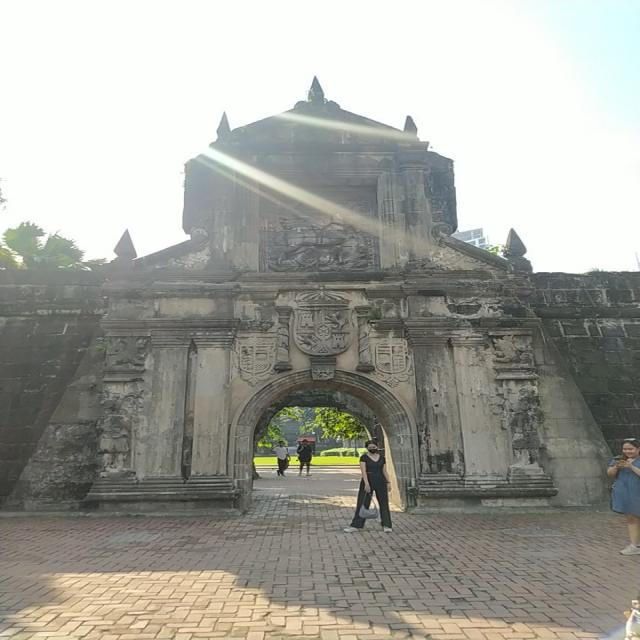Fort Santiago: (4, 78, 640, 528)
